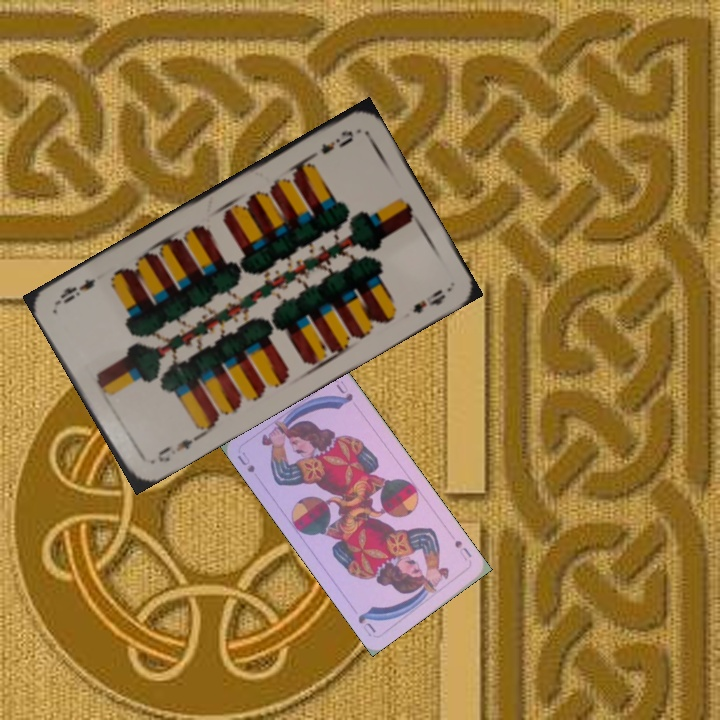E9: (305, 126, 356, 162), (153, 431, 201, 466)
SU: (233, 448, 258, 475), (450, 536, 474, 563)
